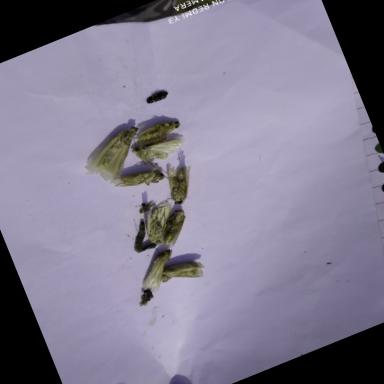abw: (123, 244, 189, 300), (128, 126, 192, 173), (126, 110, 190, 153), (154, 250, 212, 296), (146, 204, 198, 254), (112, 160, 170, 201), (156, 160, 204, 209), (134, 204, 184, 250)
